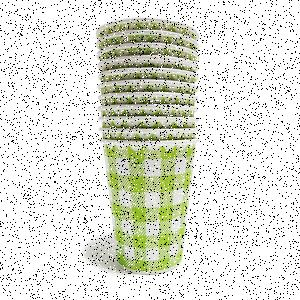Cup: (101, 138, 201, 277)
